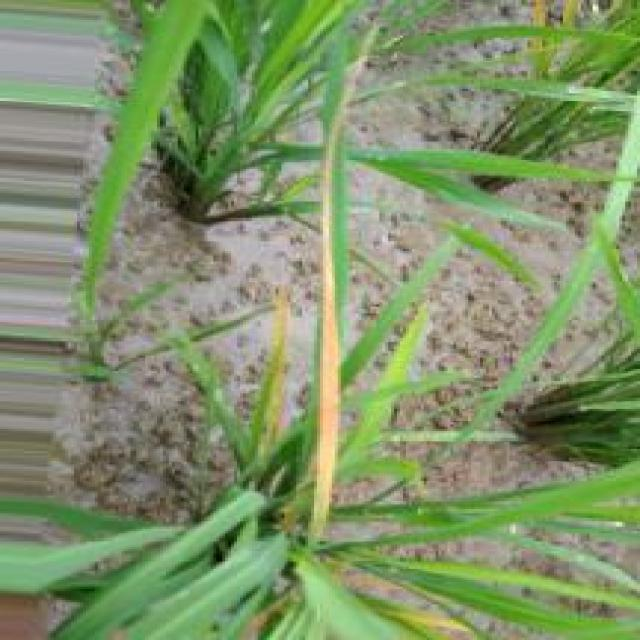Rice Tungro: (308, 28, 370, 539), (308, 36, 362, 539)
